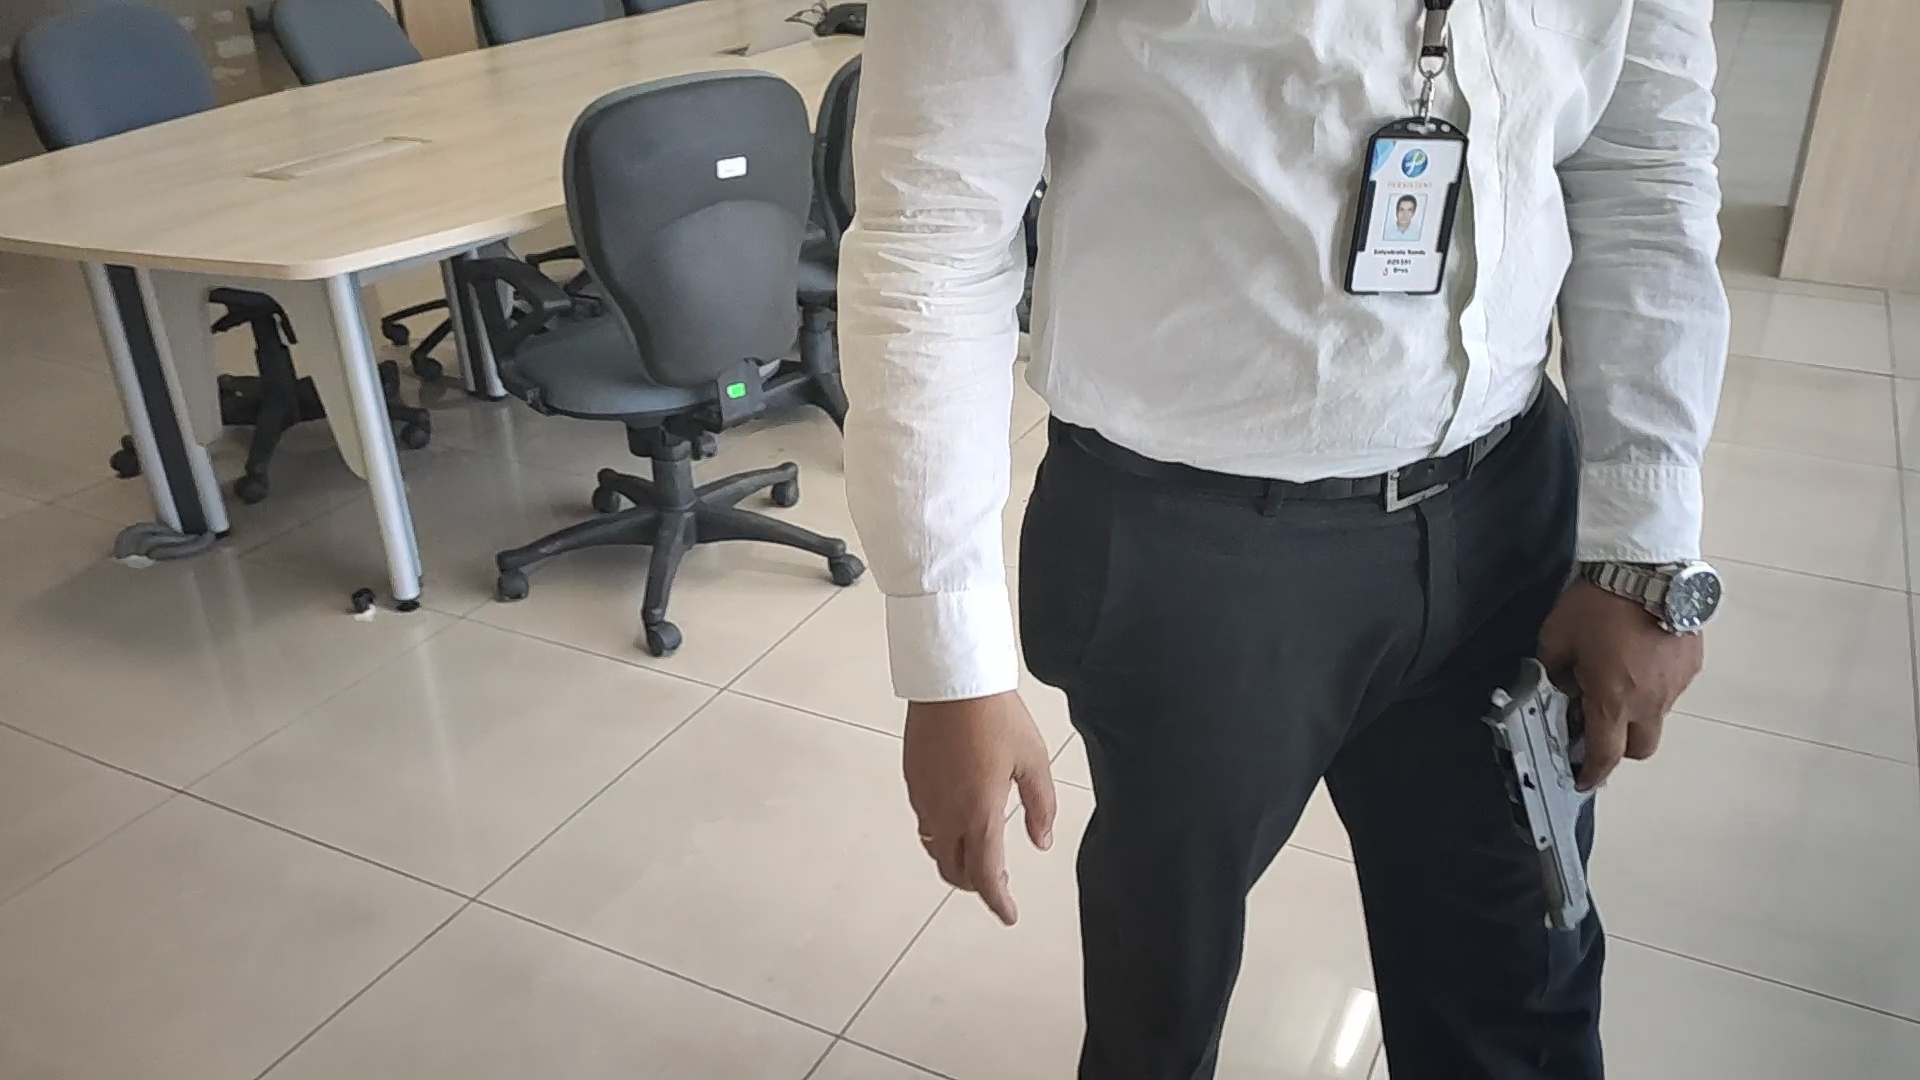gun: (1486, 661, 1607, 934)
